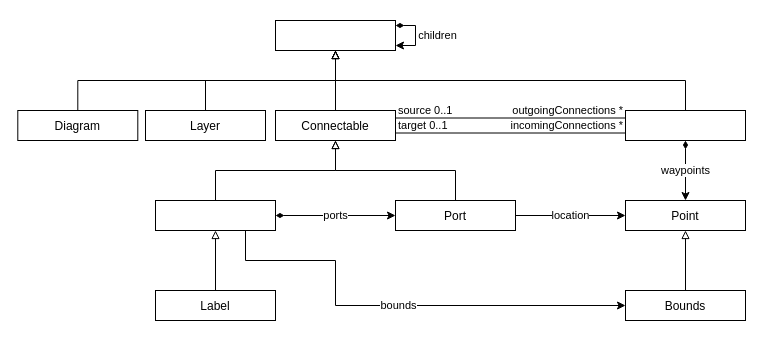
This 763x338 diagram has some shape labels left out. The centre of each missing label's shape, as x and y in pixels:
"Connection" belongs at (x=685, y=125).
"DiagramElement" belongs at (x=335, y=35).
"Node" belongs at (x=215, y=215).
